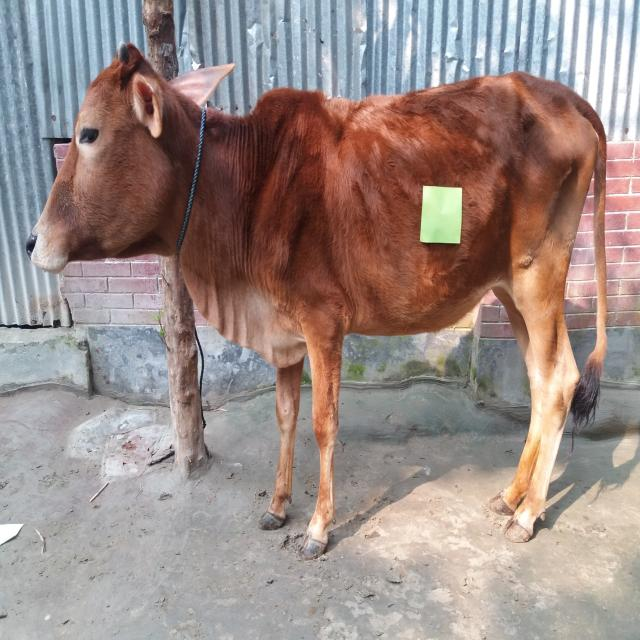badan_sapi: (261, 88, 597, 338)
sapi: (14, 33, 614, 565)
